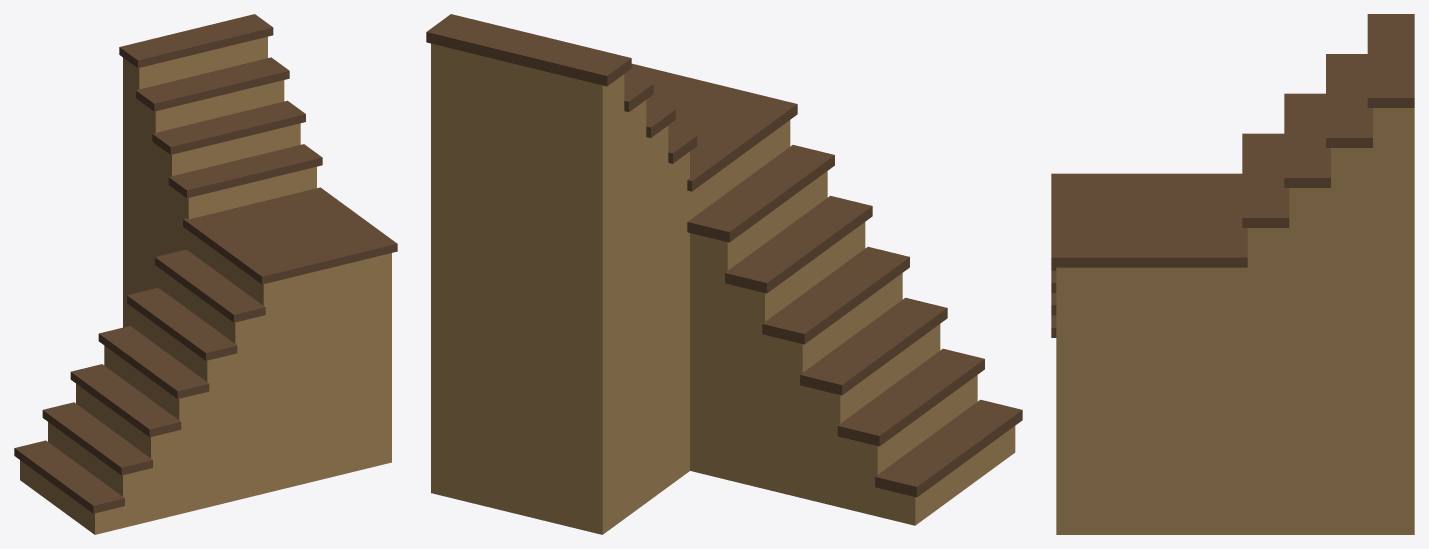
Rendered from stairs_turn.glb.
3 views of the same model, side by side, from view 1: azimuth 30°, elevation 25°; view 2: azimuth 150°, elevation 25°; view 3: azimuth 270°, elevation 25° (orthographic). The views are drawn at different scales.
Visible parts, largest first — view 1: stairs_turn; view 2: stairs_turn; view 3: stairs_turn.
Boxes of the visible parts, x1,y1,x2,y2 form: stairs_turn: (14, 14, 397, 534); stairs_turn: (426, 14, 1022, 534); stairs_turn: (1051, 14, 1414, 534).
Size of the model in its own units: 2.4 by 2.6 by 1.95.
